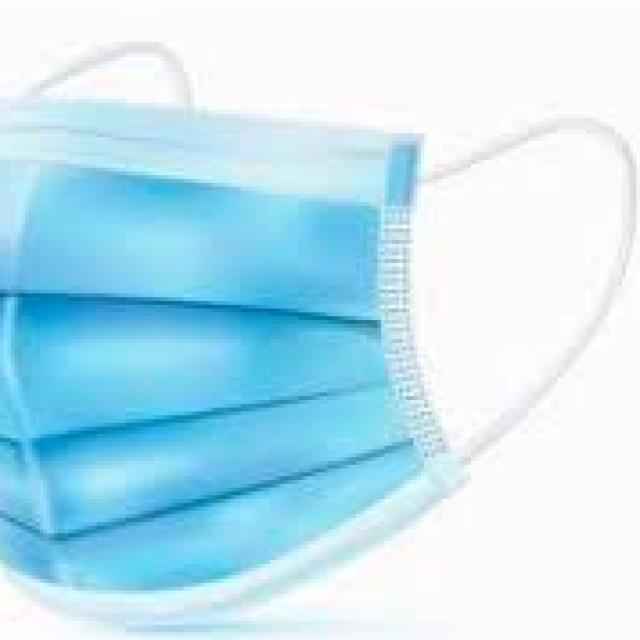organic: (8, 42, 599, 589)
